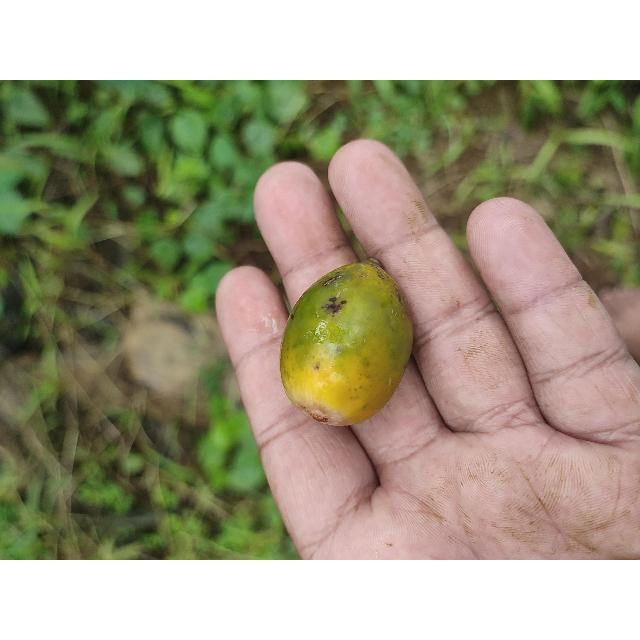good: (278, 262, 415, 428)
